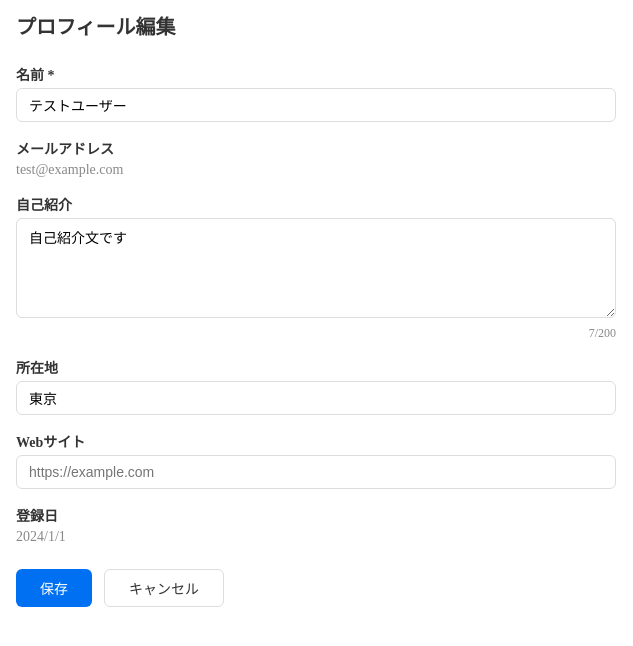
ProfileEditForm › website が https:// で始まらない場合にバリデーションエラー
Type "http://example.com" into the field labelled "Webサイト". click: (316, 472)
box: x1=16 y1=455 x2=616 y2=489
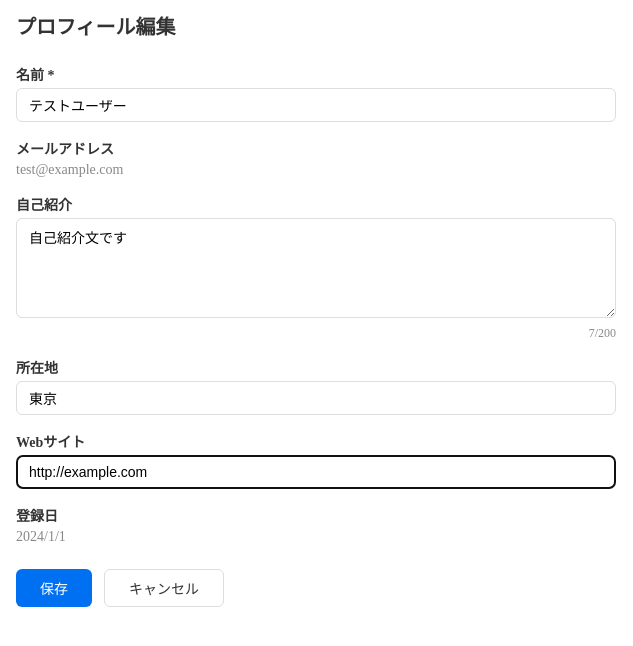
Submit the form from the button "保存", box x1=16 y1=569 x2=92 y2=607
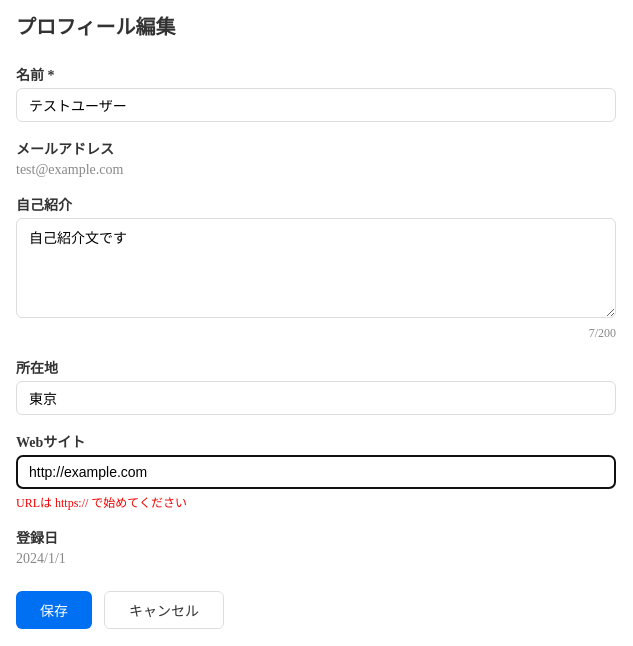
Expected: the text "URLは https:// で始めてください" is shown, x1=16 y1=496 x2=187 y2=510
